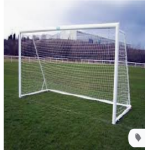goals: (18, 22, 133, 124)
